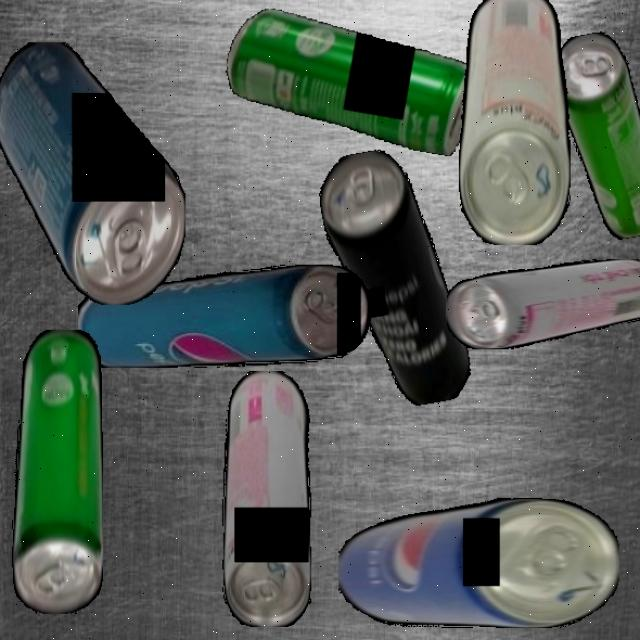debris: (0, 41, 185, 304), (314, 141, 475, 415), (217, 3, 484, 158), (338, 498, 620, 628), (77, 264, 371, 368), (458, 0, 570, 245), (11, 329, 103, 614), (222, 370, 312, 627), (549, 27, 640, 245), (446, 258, 640, 349)
